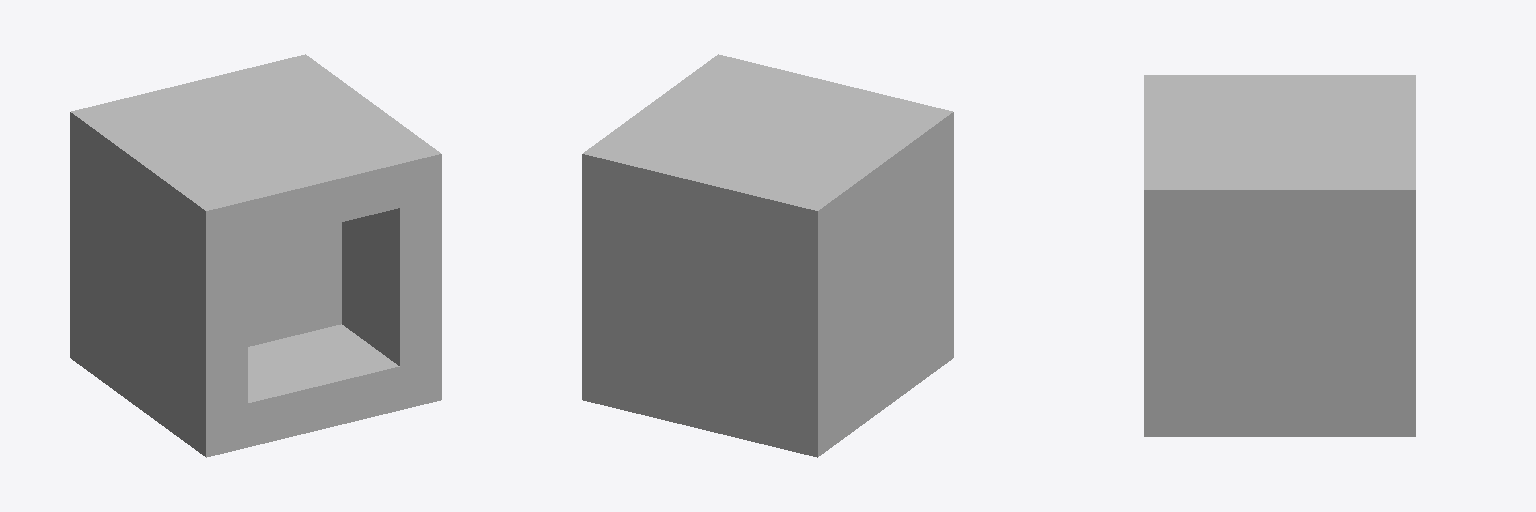
Rendered from cup.obj.
The picture shows the model from 3 angles: view 1: azimuth 30°, elevation 25°; view 2: azimuth 150°, elevation 25°; view 3: azimuth 270°, elevation 25°; orthographic projection.
Parts seen in each view (by area): view 1: Cube; view 2: Cube; view 3: Cube.
Part boxes in pixels (bbox=[...]): Cube: bbox=[70, 54, 441, 457]; Cube: bbox=[582, 54, 953, 457]; Cube: bbox=[1144, 75, 1415, 436].
Bounding box in the file's own units: 2 × 2 × 2.